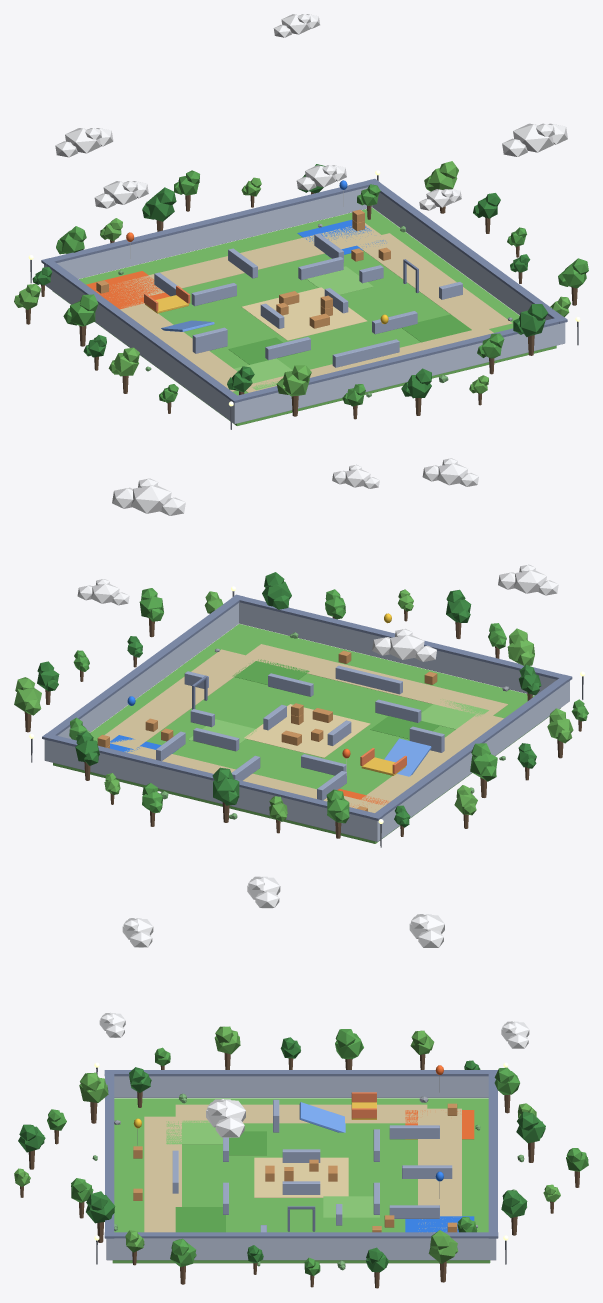
Rendered from playground.glb.
3 views of the same model, one above another, from view 1: azimuth 30°, elevation 25°; view 2: azimuth 150°, elevation 25°; view 3: azimuth 270°, elevation 25° (orthographic). The views are drawn at different scales.
Parts seen in each view (by area): view 1: playground_box000, playground_box001, playground_box002, playground_box010, playground_box013, playground_box003, playground_box004, playground_box009, playground_box005, playground_box012, playground_box007, playground_box008 (+16 smaller); view 2: playground_box000, playground_box001, playground_box002, playground_box013, playground_box011, playground_box003, playground_box004, playground_box012, playground_box009, playground_box008, playground_box006, playground_box007 (+17 smaller); view 3: playground_box000, playground_box003, playground_box004, playground_box011, playground_box010, playground_box012, playground_box009, playground_box007, playground_box008, playground_box005, playground_box006, playground_box018 (+11 smaller).
Part boxes in pixels (left/top/right/bottom): playground_box000: left=52, top=207, right=556, bottom=425; playground_box001: left=44, top=187, right=372, bottom=285; playground_box002: left=232, top=323, right=564, bottom=423; playground_box010: left=96, top=223, right=385, bottom=301; playground_box013: left=357, top=233, right=512, bottom=329; playground_box003: left=44, top=264, right=239, bottom=423; playground_box004: left=372, top=193, right=565, bottom=344; playground_box009: left=241, top=287, right=367, bottom=340; playground_box005: left=41, top=179, right=379, bottom=265; playground_box012: left=120, top=300, right=256, bottom=391; playground_box007: left=42, top=258, right=242, bottom=403; playground_box008: left=367, top=178, right=567, bottom=323; playground_box000: left=53, top=624, right=560, bottom=843; playground_box001: left=44, top=739, right=380, bottom=841; playground_box002: left=239, top=602, right=569, bottom=701; playground_box013: left=104, top=649, right=258, bottom=749; playground_box011: left=244, top=644, right=507, bottom=717; playground_box003: left=372, top=681, right=569, bottom=841; playground_box004: left=45, top=603, right=238, bottom=761; playground_box012: left=360, top=714, right=503, bottom=808; playground_box009: left=244, top=704, right=370, bottom=757; playground_box008: left=42, top=595, right=244, bottom=740; playground_box006: left=232, top=594, right=572, bottom=681; playground_box007: left=370, top=674, right=571, bottom=820; playground_box000: left=112, top=1098, right=490, bottom=1263; playground_box003: left=114, top=1076, right=488, bottom=1097; playground_box004: left=106, top=1238, right=495, bottom=1260; playground_box011: left=144, top=1116, right=181, bottom=1232; playground_box010: left=418, top=1108, right=461, bottom=1232; playground_box012: left=175, top=1104, right=427, bottom=1123; playground_box009: left=254, top=1157, right=348, bottom=1197; playground_box007: left=104, top=1070, right=497, bottom=1076; playground_box008: left=104, top=1232, right=498, bottom=1238; playground_box005: left=488, top=1070, right=497, bottom=1238; playground_box006: left=105, top=1070, right=114, bottom=1238; playground_box018: left=175, top=1207, right=225, bottom=1232.
Size of the model in its own units: 86.07 by 41.1 by 91.4.
